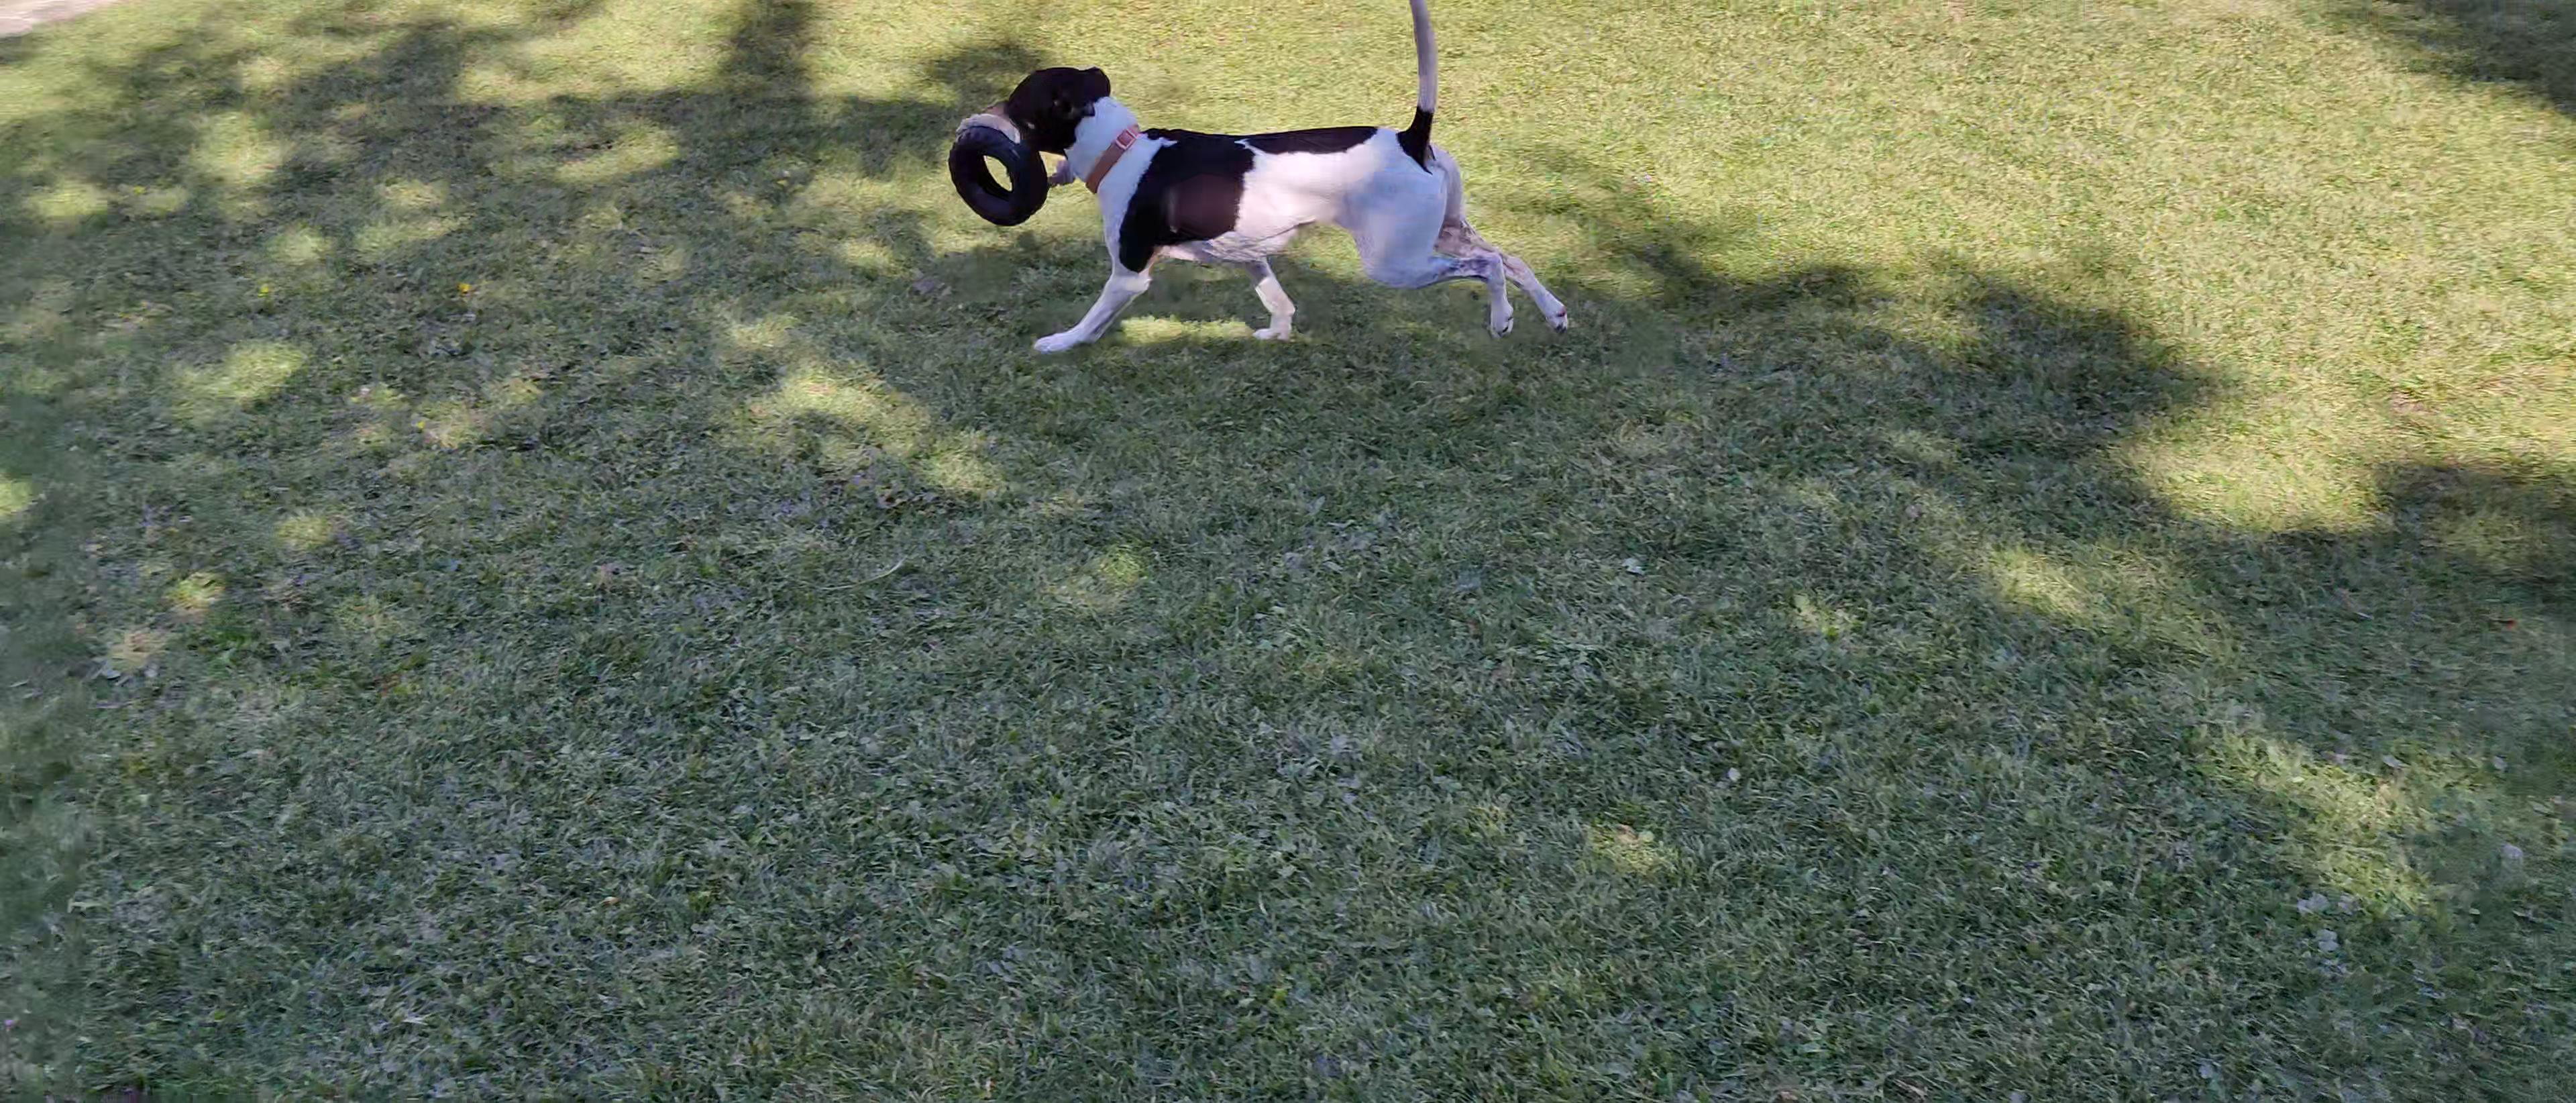Dog: (973, 0, 1574, 357)
